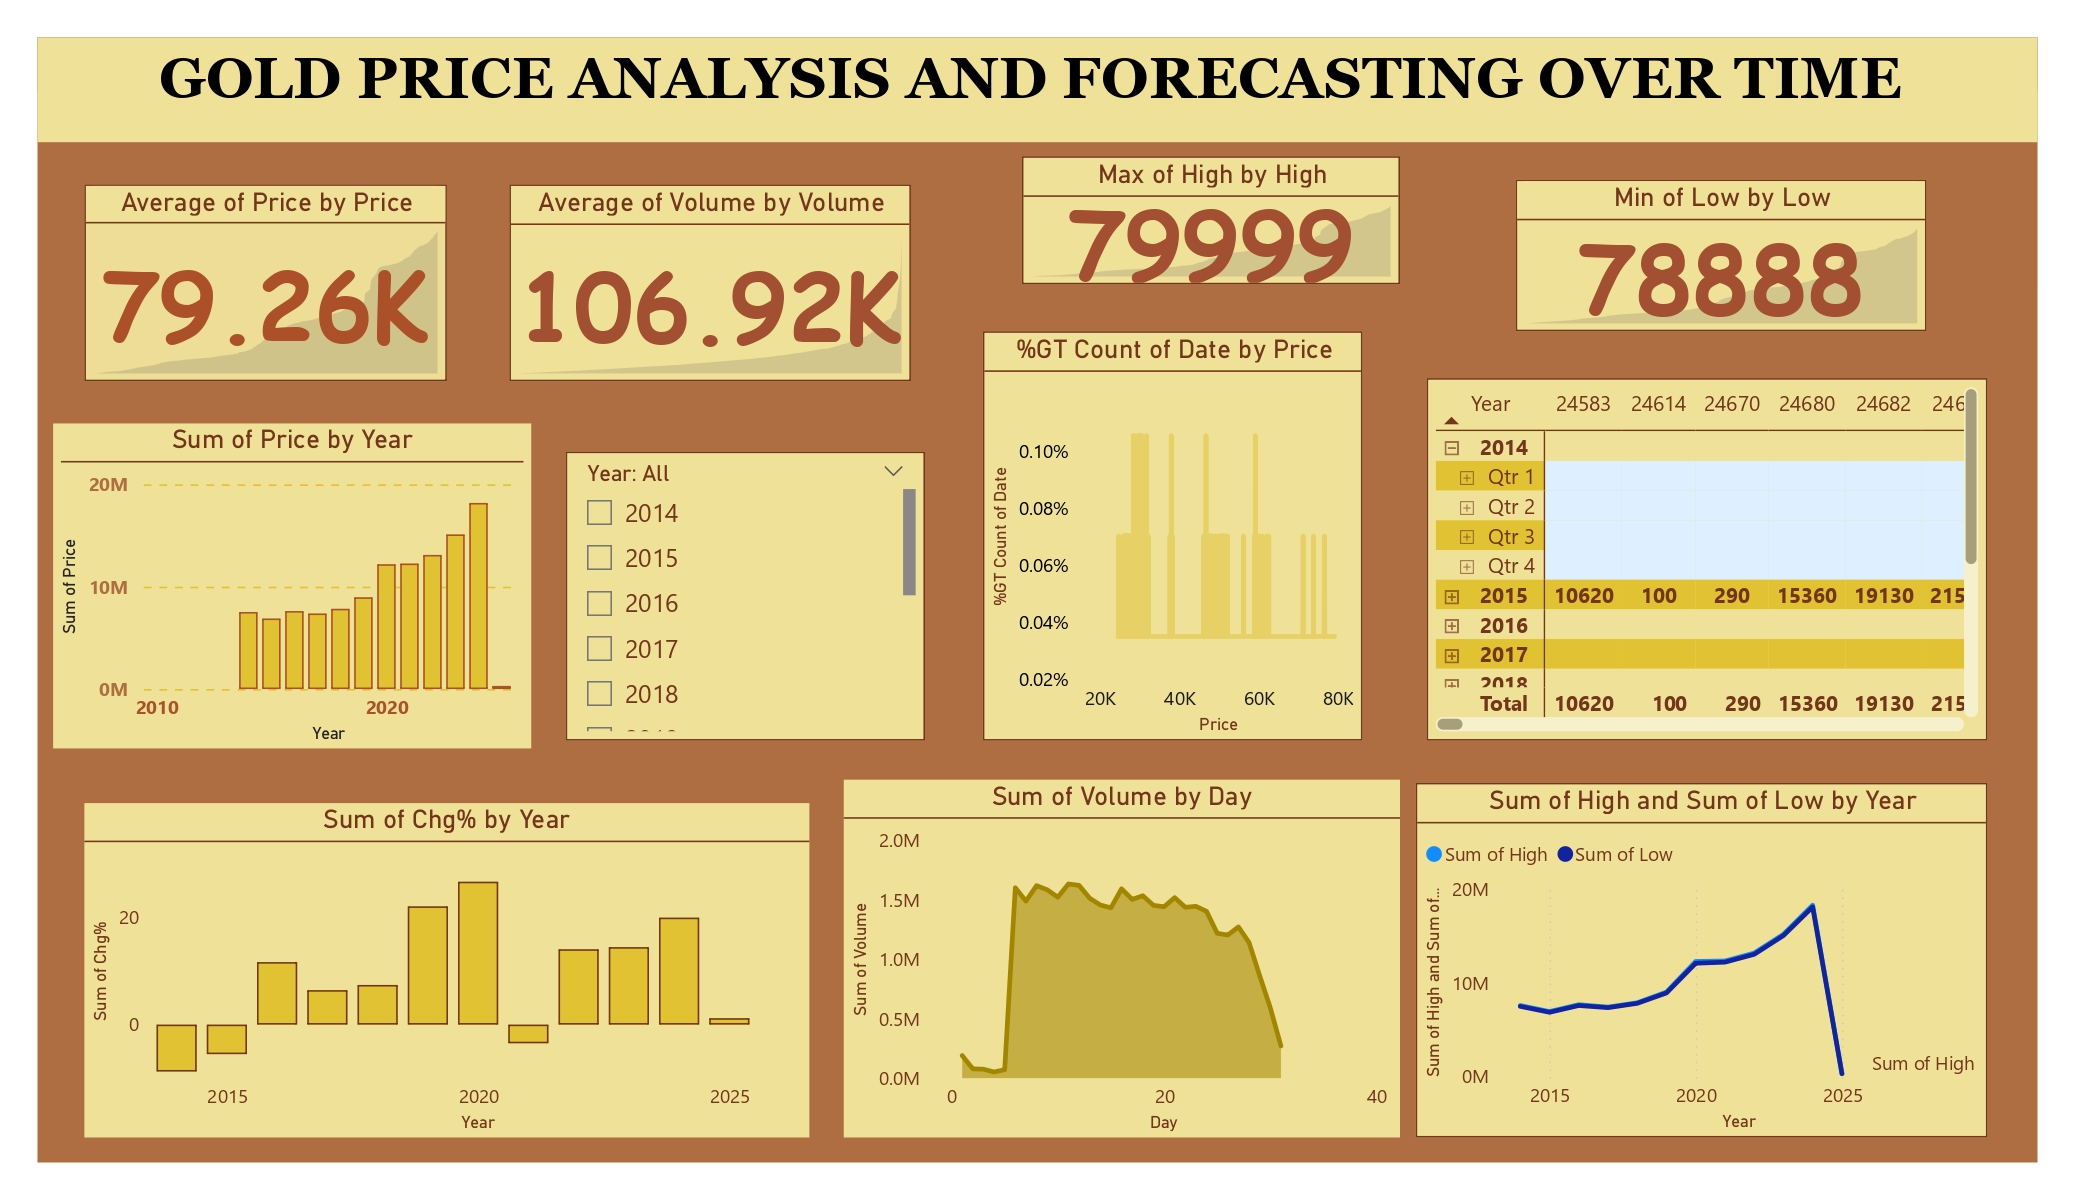

The page's visual inventory and layout, read from the dashboard file:
{"tool":"powerbi","page":{"name":"DA Project","canvas":[1280,720],"ordinal":0},"visuals":[{"type":"lineClusteredColumnComboChart","fields":{"Category":["Gold Price (1).Date.Variation.Date Hierarchy.Year"],"Y":["Sum(Gold Price (1).Price)"]},"box":[10.1,246.9,305.7,208.3],"z":0},{"type":"clusteredColumnChart","fields":{"Category":["Gold Price (1).Year"],"Y":["Sum(Gold Price (1).Chg%)"]},"box":[30.2,490.5,463.6,213.3],"z":1000},{"type":"lineChart","fields":{"Category":["Gold Price (1).Date.Variation.Date Hierarchy.Year","Gold Price (1).Date.Variation.Date Hierarchy.Month","Gold Price (1).Date.Variation.Date Hierarchy.Day"],"Y":["Sum(Gold Price (1).High)","Sum(Gold Price (1).Low)"]},"box":[881.9,477.1,366.2,226.8],"z":2000},{"type":"areaChart","fields":{"Category":["Gold Price (1).Date.Variation.Date Hierarchy.Day"],"Y":["Sum(Gold Price (1).Volume)"]},"box":[515.7,475.4,356.1,228.5],"z":3000},{"type":"pivotTable","fields":{"Rows":["Gold Price (1).Date.Variation.Date Hierarchy.Year","Gold Price (1).Date.Variation.Date Hierarchy.Quarter","Gold Price (1).Date.Variation.Date Hierarchy.Month","Gold Price (1).Date.Variation.Date Hierarchy.Day"],"Columns":["Gold Price (1).Open"],"Values":["Sum(Gold Price (1).Volume)"]},"box":[888.6,218.4,359.5,231.8],"z":4000},{"type":"kpi","fields":{"Indicator":["Avg(Gold Price (1).Price)"],"TrendLine":["Gold Price (1).Price"]},"box":[30.2,94.1,231.8,126],"z":5000},{"type":"kpi","fields":{"Indicator":["Max(Gold Price (1).High)"],"TrendLine":["Gold Price (1).High"]},"box":[629.9,75.6,241.9,82.3],"z":6000},{"type":"kpi","fields":{"Indicator":["Min(Gold Price (1).Low)"],"TrendLine":["Gold Price (1).Low"]},"box":[945.7,90.7,263.7,97.4],"z":7000},{"type":"kpi","fields":{"Indicator":["Avg(Gold Price (1).Volume)"],"TrendLine":["Gold Price (1).Volume"]},"box":[302.4,94.1,257,126],"z":8000},{"type":"slicer","fields":{"Values":["Gold Price (1).Date.Variation.Date Hierarchy.Year"]},"box":[337.6,265.4,230.1,184.8],"z":9000},{"type":"lineChart","fields":{"Category":["Gold Price (1).Price"],"Y":["CountNonNull(Gold Price (1).Date)"]},"box":[604.7,188.1,243.6,262],"z":10000},{"type":"textbox","box":[0,0,1280,67.2],"z":11000}]}

Visuals, with their boxes in screenshot pixels (x1, y1, x2, y2):
lineClusteredColumnComboChart - Gold Price (1).Date.Variation.Date Hierarchy.Year x Sum(Gold Price (1).Price): <box>53,423,531,749</box>
clusteredColumnChart - Gold Price (1).Year x Sum(Gold Price (1).Chg%): <box>85,804,809,1137</box>
lineChart - Gold Price (1).Date.Variation.Date Hierarchy.Year x Gold Price (1).Date.Variation.Date Hierarchy.Month: <box>1415,783,1988,1137</box>
areaChart - Gold Price (1).Date.Variation.Date Hierarchy.Day x Sum(Gold Price (1).Volume): <box>843,780,1400,1137</box>
pivotTable - Gold Price (1).Date.Variation.Date Hierarchy.Year x Gold Price (1).Date.Variation.Date Hierarchy.Quarter: <box>1426,379,1988,741</box>
kpi - Avg(Gold Price (1).Price) x Gold Price (1).Price: <box>85,185,447,381</box>
kpi - Max(Gold Price (1).High) x Gold Price (1).High: <box>1022,156,1400,284</box>
kpi - Min(Gold Price (1).Low) x Gold Price (1).Low: <box>1515,179,1927,331</box>
kpi - Avg(Gold Price (1).Volume) x Gold Price (1).Volume: <box>510,185,912,381</box>
slicer - Gold Price (1).Date.Variation.Date Hierarchy.Year: <box>565,452,925,741</box>
lineChart - Gold Price (1).Price x CountNonNull(Gold Price (1).Date): <box>982,331,1363,741</box>
textbox: <box>38,38,2038,142</box>
